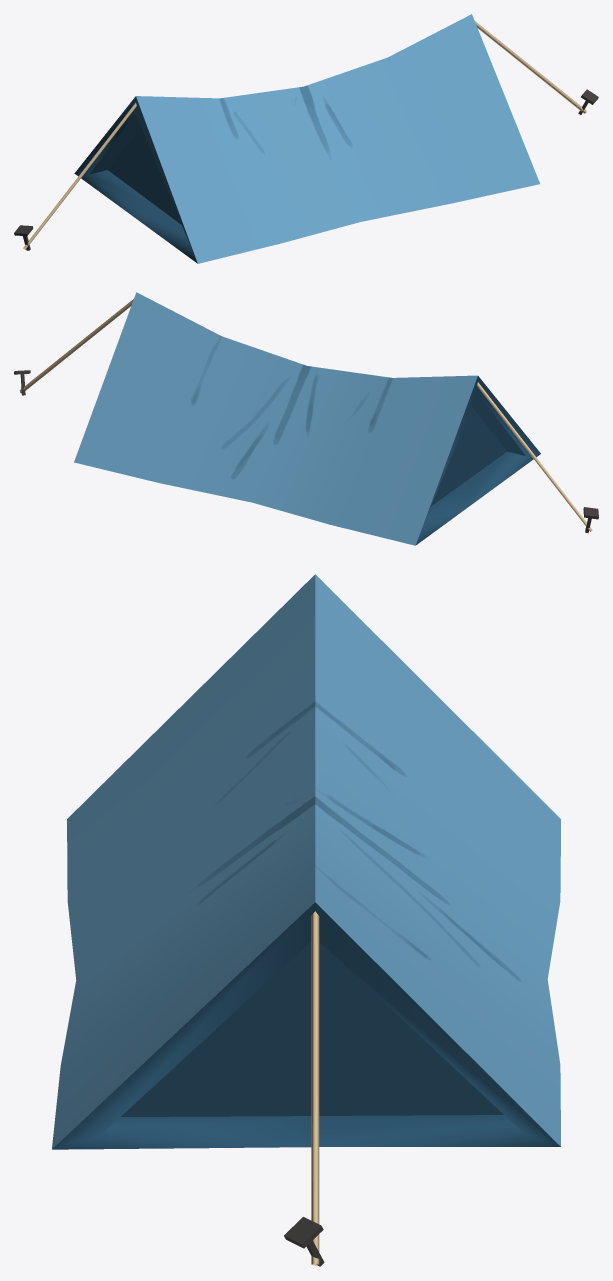
The model's file is Tent_Mesh (1).fbx.
3 views of the same model, one above another, from view 1: azimuth 30°, elevation 25°; view 2: azimuth 150°, elevation 25°; view 3: azimuth 270°, elevation 25° (orthographic). The views are drawn at different scales.
Visible parts, largest first — view 1: TentOneMesh; view 2: TentOneMesh; view 3: TentOneMesh.
Part boxes in pixels (<box>): TentOneMesh: <box>14,14,598,263</box>; TentOneMesh: <box>14,292,598,545</box>; TentOneMesh: <box>52,574,560,1266</box>.
Size of the model in its own units: 6.91 by 1.46 by 2.63.
